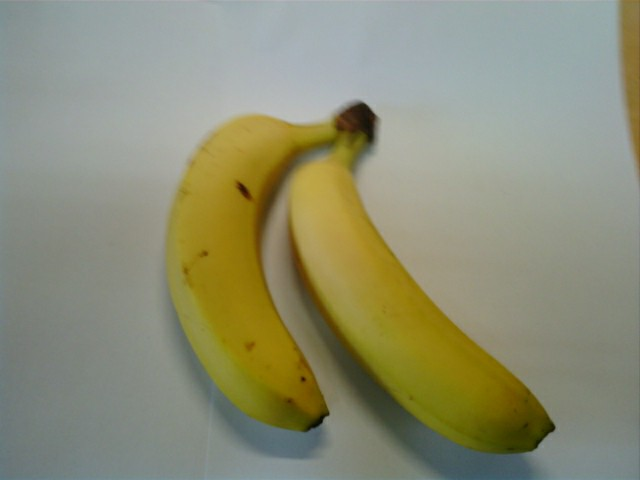fresh_banana: (289, 155, 557, 458)
normal_banana: (167, 110, 327, 433)
